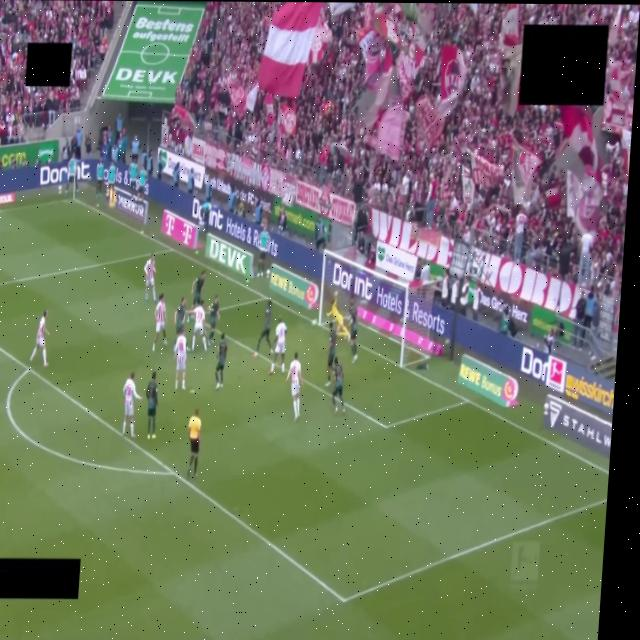ball: (312, 319, 317, 324)
player: (122, 372, 141, 438), (30, 310, 49, 367), (253, 300, 272, 357), (287, 352, 302, 419), (269, 317, 286, 374), (327, 299, 350, 339), (189, 301, 207, 351), (174, 328, 187, 390), (146, 371, 158, 438), (332, 357, 345, 414), (153, 294, 166, 351), (326, 323, 337, 386), (215, 333, 227, 389), (349, 298, 358, 362), (208, 295, 219, 345), (144, 253, 155, 303), (192, 271, 205, 306), (175, 297, 186, 335)
referee: (187, 410, 201, 477)
